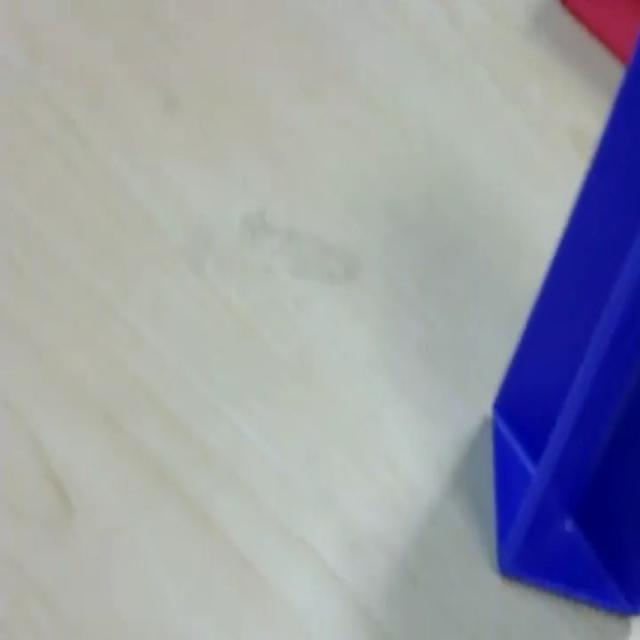blue_block: (490, 31, 638, 616)
